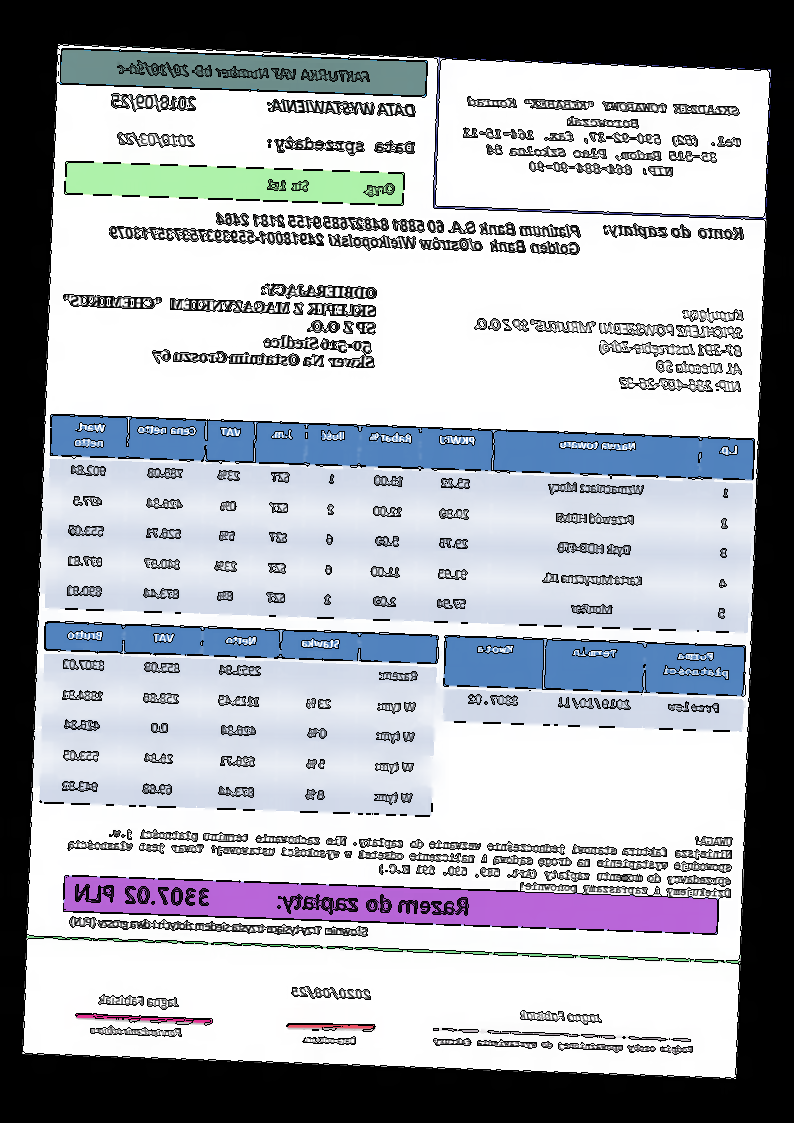Table: (43, 412, 757, 633), (38, 621, 439, 818), (441, 633, 748, 734)
TextBox: (66, 813, 735, 901), (61, 275, 379, 371), (472, 296, 747, 395), (108, 205, 584, 258), (459, 93, 744, 181), (73, 879, 472, 922), (68, 913, 371, 941), (113, 59, 374, 87), (432, 1033, 696, 1057), (264, 132, 417, 159), (264, 96, 418, 120), (602, 220, 747, 245), (265, 176, 398, 199), (109, 90, 199, 114), (89, 1022, 184, 1040), (115, 131, 197, 149), (99, 992, 181, 1010), (519, 1008, 604, 1025), (289, 985, 373, 1001), (301, 1032, 359, 1048)
